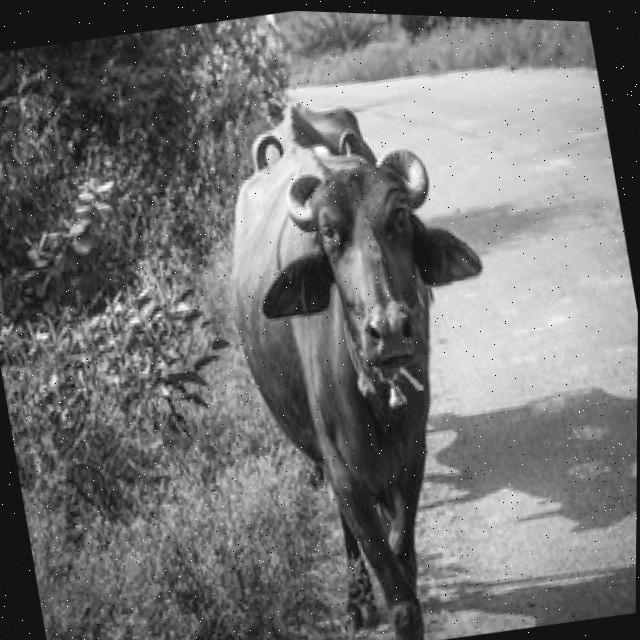Buffalo: (190, 65, 546, 640)
